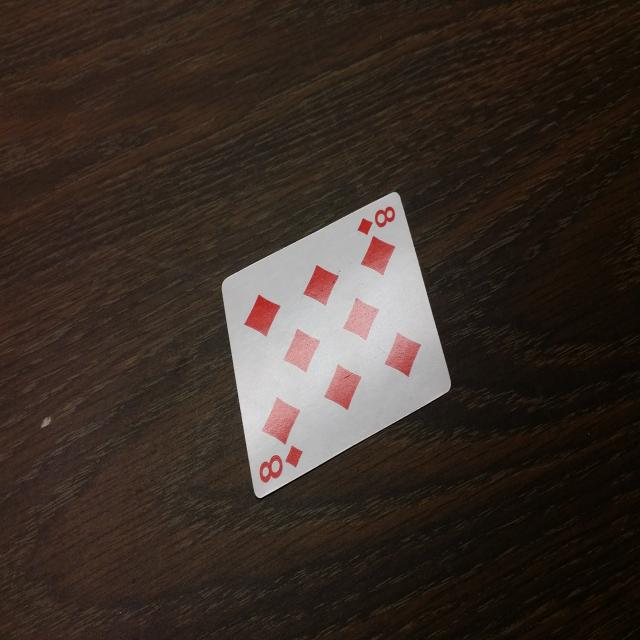8d: (248, 430, 312, 497), (349, 201, 401, 242)
